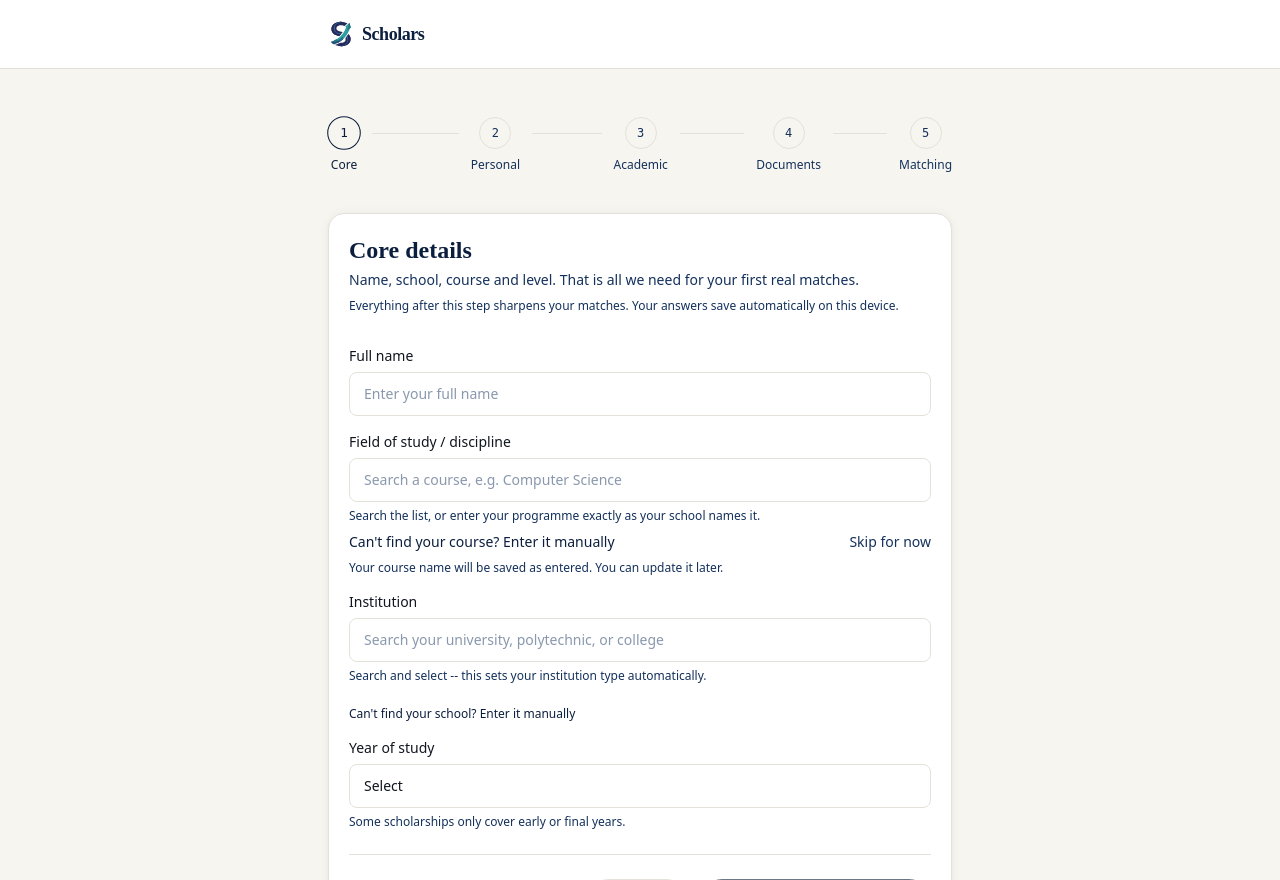
Test: Onboarding retry behavior › failed profile save then successful retry navigates to dashboard
The width and height of the screenshot is (1280, 880).
Later steps or results of the test are not shown.
Expected: the heading "Core details" is shown, [349, 237, 472, 263]
Type "Test User" into the field with placeholder "Enter your full name" at (640, 394), box [349, 372, 931, 416]
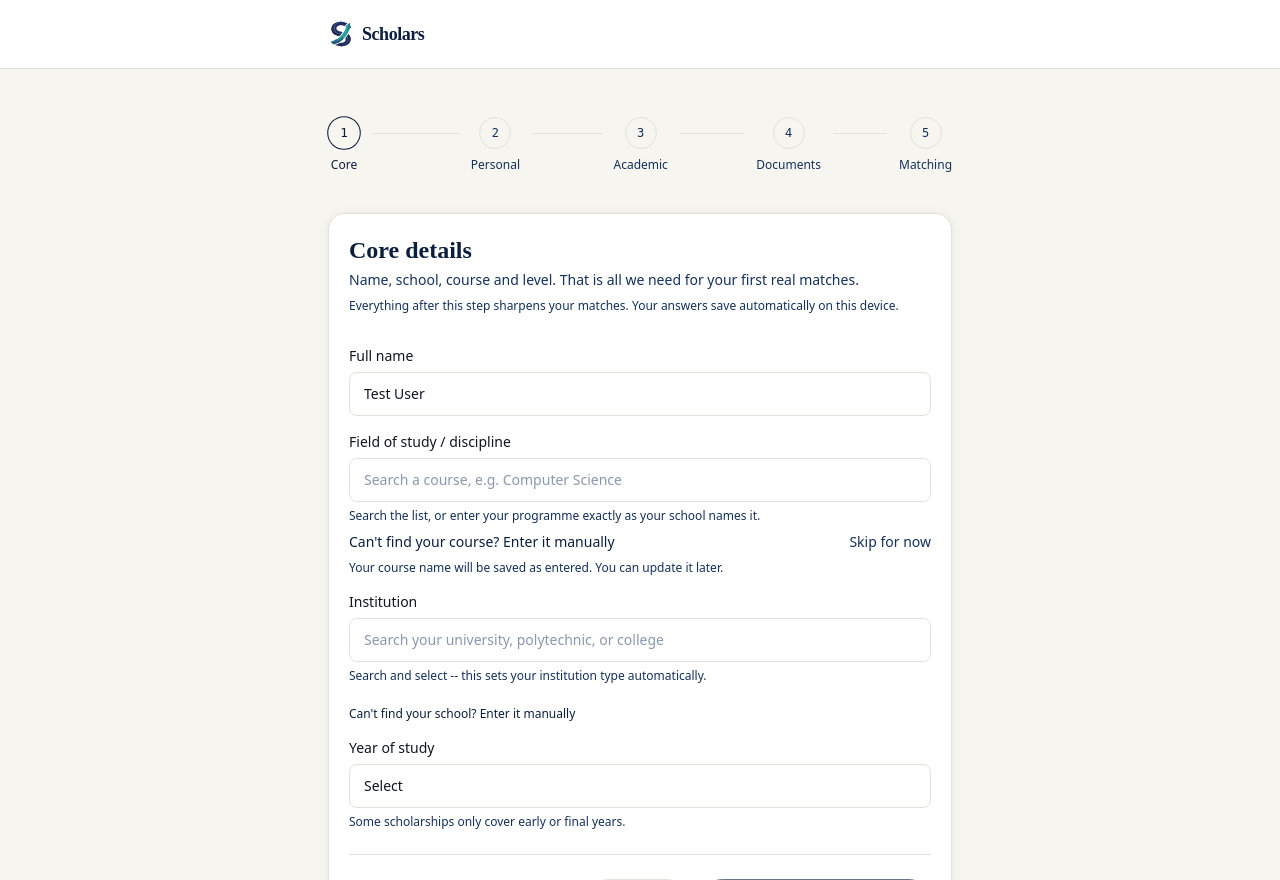
Focus the dropdown with placeholder "Search your university, polytechnic, or college" at (640, 640), box [349, 618, 931, 662]
(page scrolled)
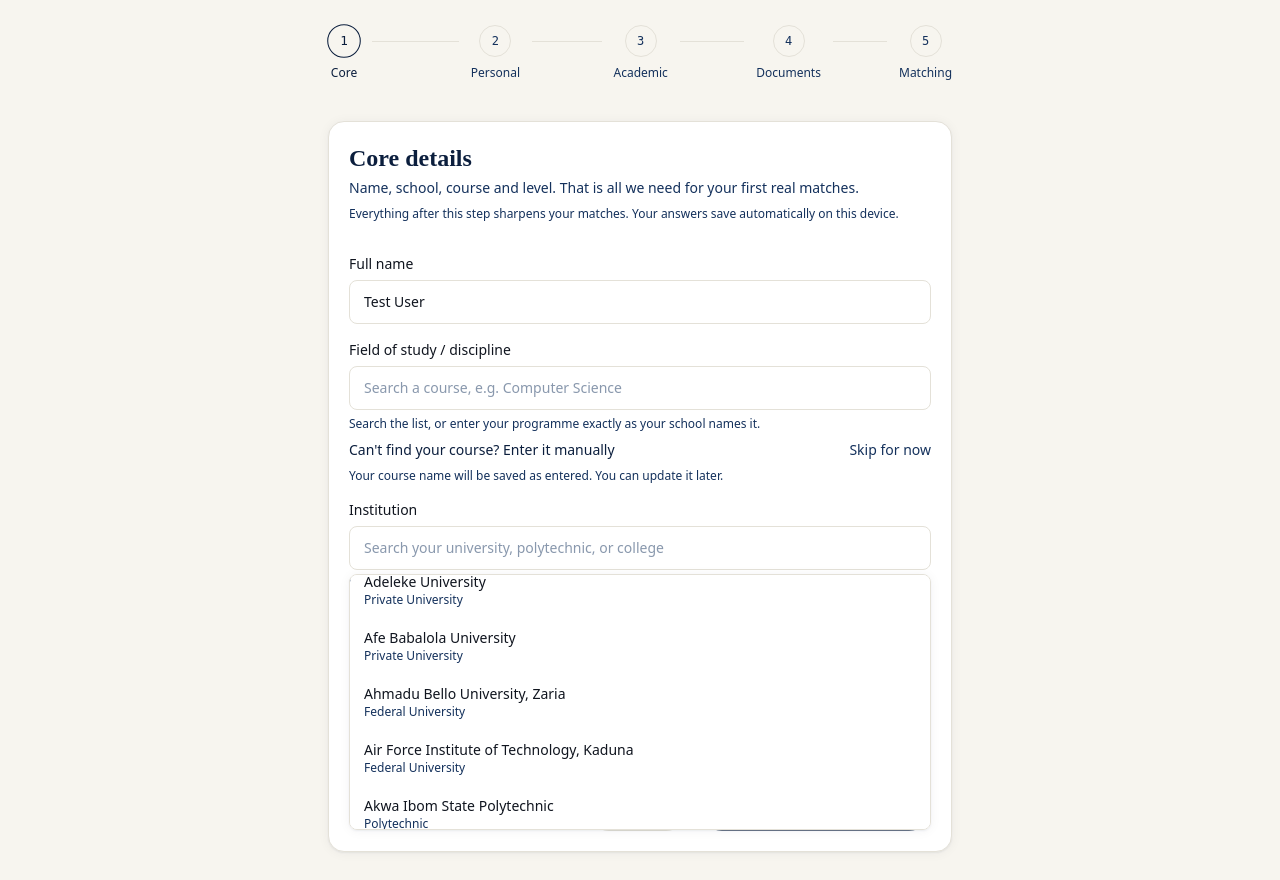
Now the list that starts with "Abia State Polytechnic" is shown, box [349, 574, 931, 830]
Click the button "Ahmadu Bello University, Zaria Federal University" at (465, 694), box [350, 674, 930, 730]
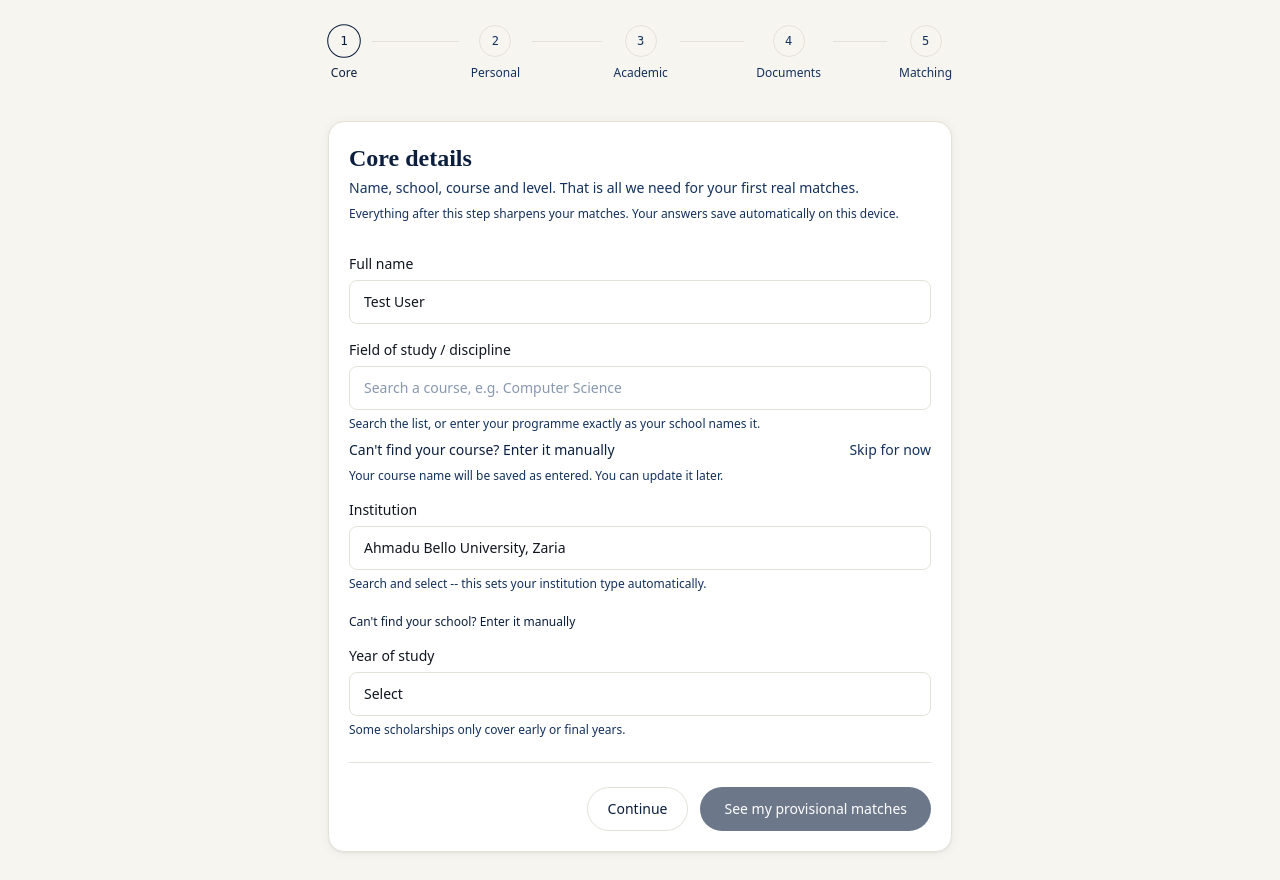
Select "100 Level" in the dropdown labelled "Year of study" at (640, 694), box [349, 672, 931, 716]
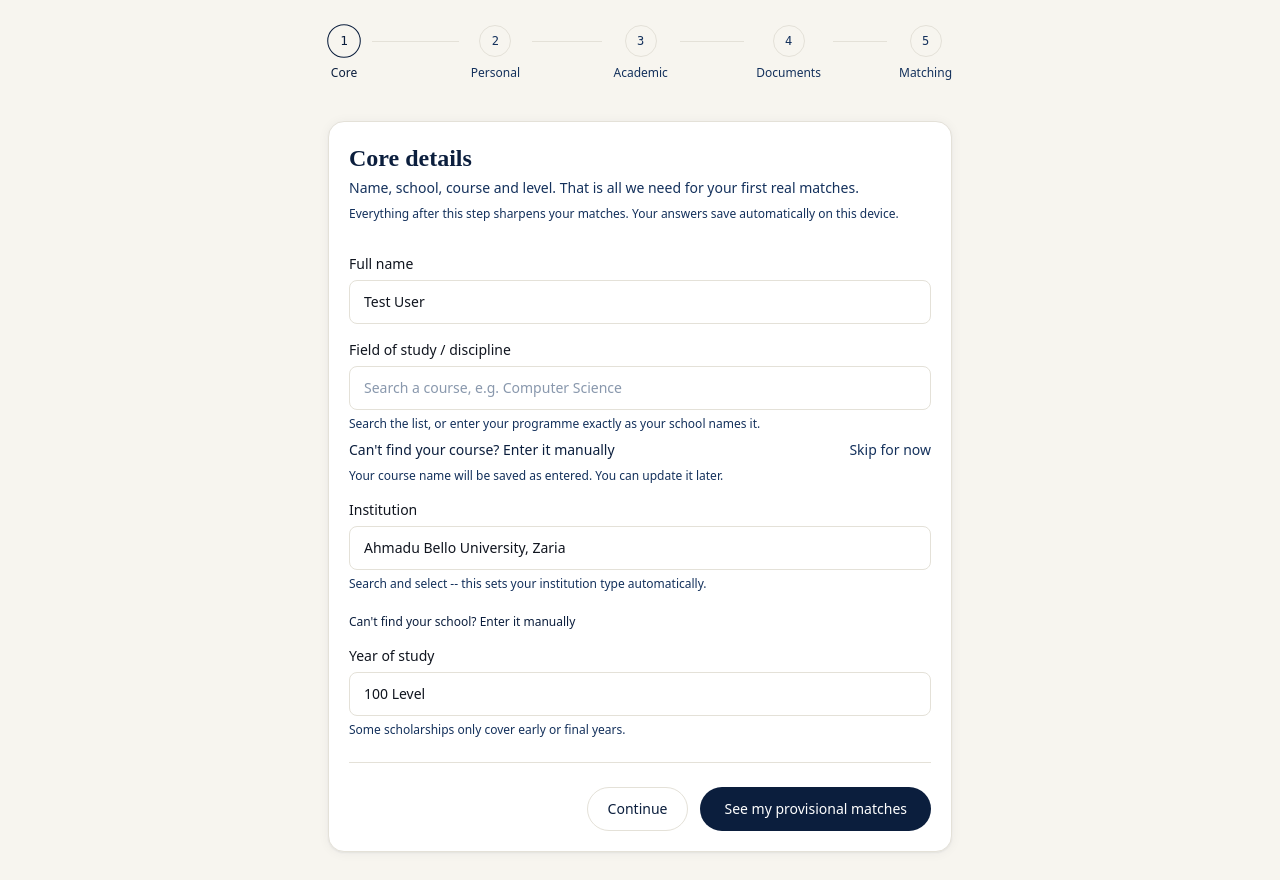
Now the button "See my provisional matches" is enabled, box [700, 787, 931, 831]
